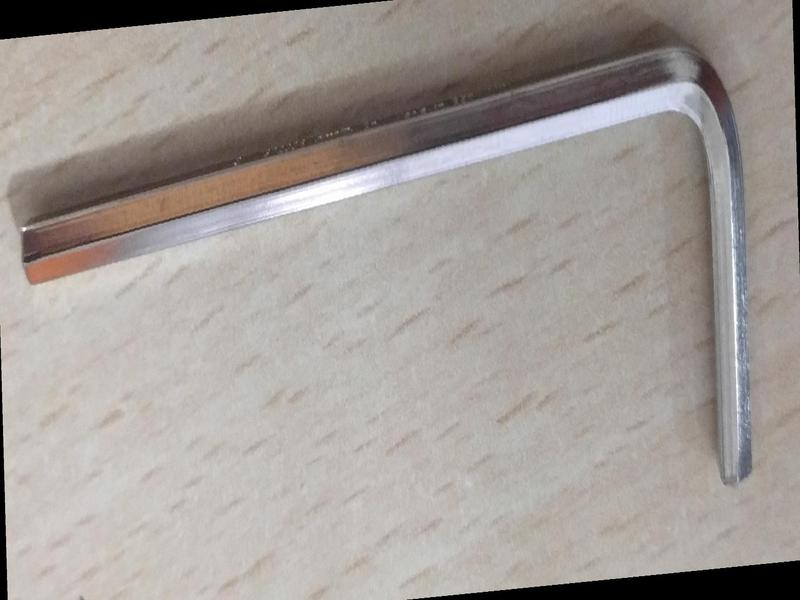turner: (10, 38, 765, 509)
